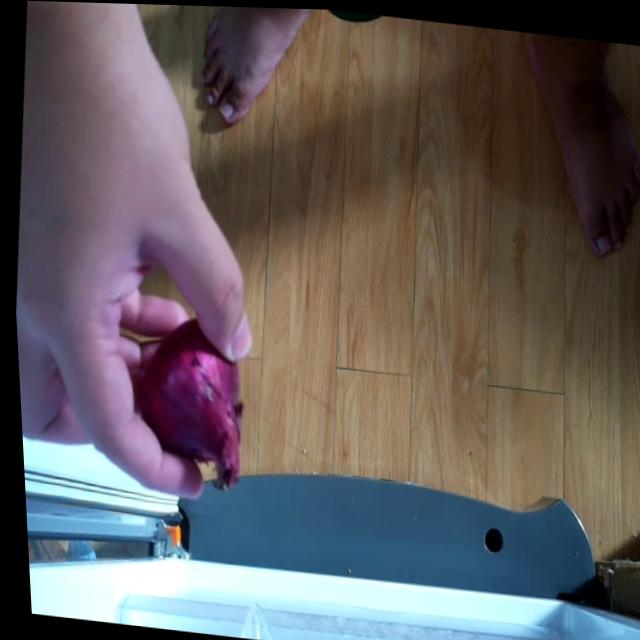onion: (120, 305, 252, 494)
